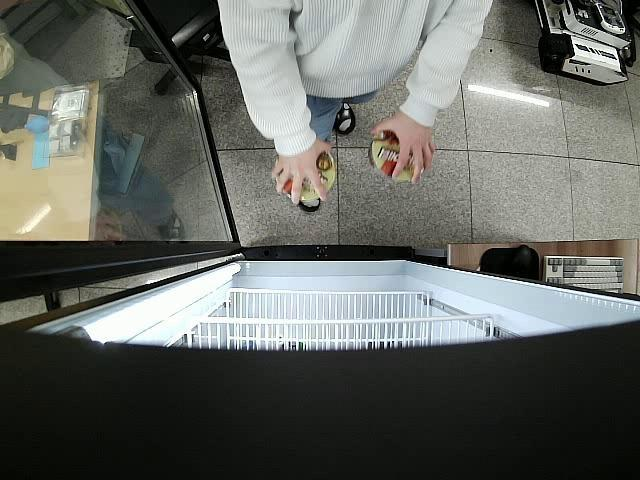03_chapagetti_L: (276, 150, 336, 201), (368, 132, 419, 182)
